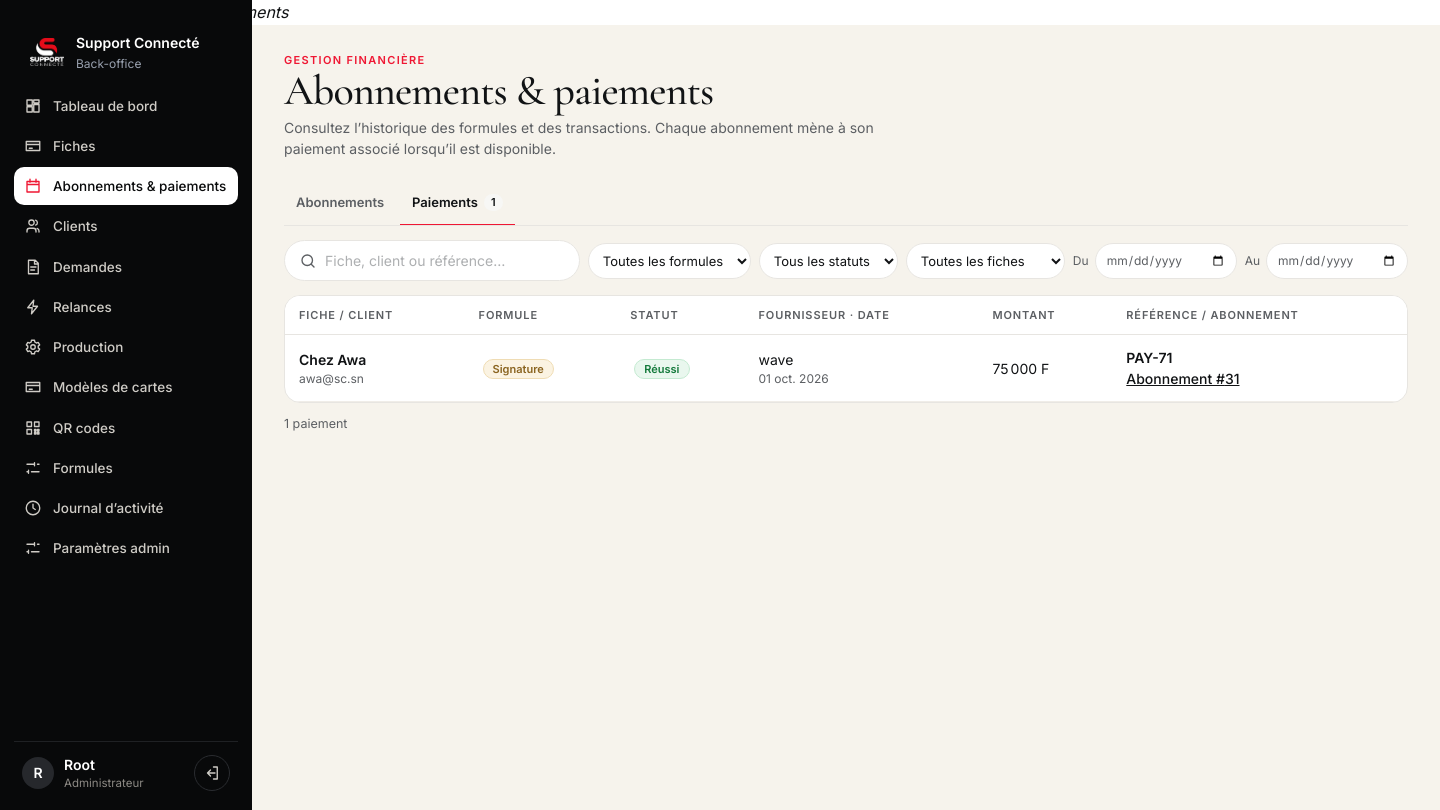
Scenario: pages du back-office › filtre les paiements des fiches supprimées et les identifie
Select "Fiches supprimées" in the dropdown named "Filtrer par état de la fiche": (985, 261) top-left (906, 243), bottom-right (1065, 279)
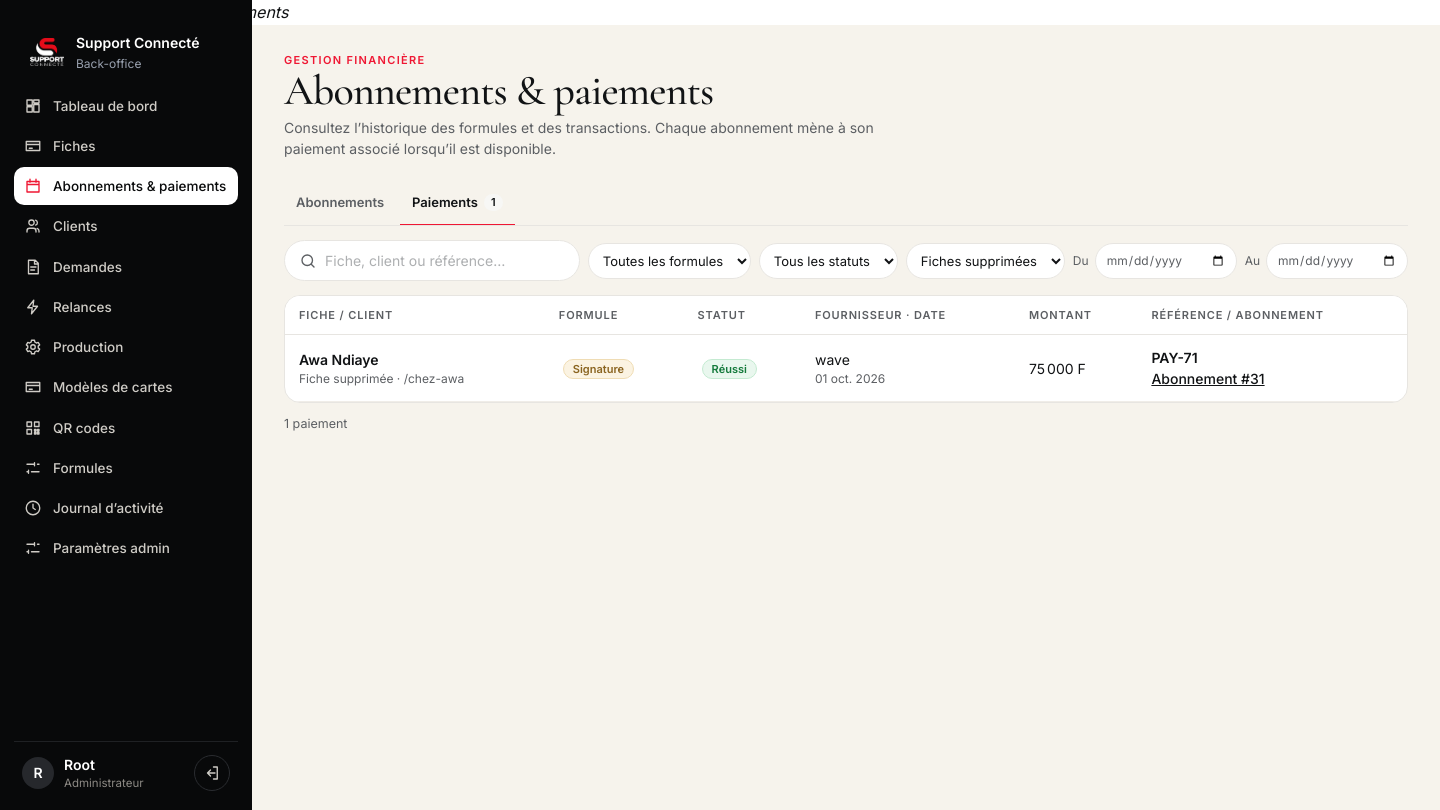
Check: the text "Fiche supprimée" is shown, box top-left (299, 371), bottom-right (394, 386)
Check: the text "Awa Ndiaye" is shown, box top-left (299, 351), bottom-right (379, 368)
